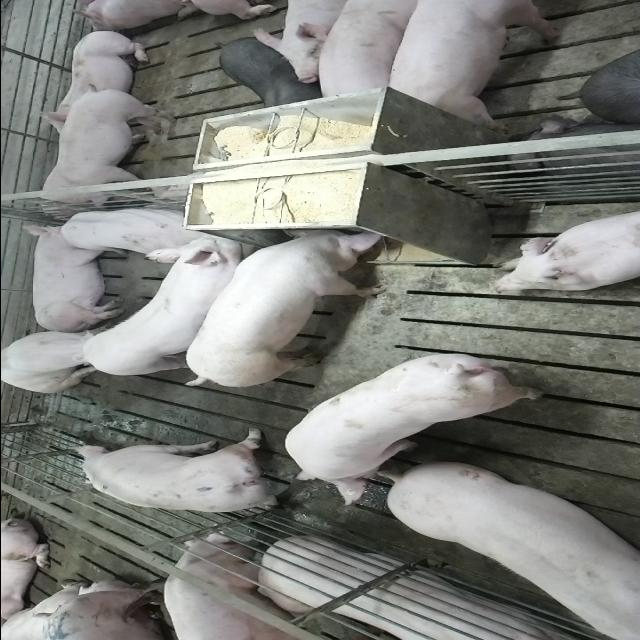Feeding: (177, 220, 396, 385)
Lateral_lying: (253, 539, 605, 640), (19, 223, 127, 333)
Sitting: (0, 326, 114, 393)
Standing: (382, 465, 639, 640), (284, 355, 546, 511), (78, 241, 258, 381), (383, 1, 561, 126), (69, 430, 291, 515), (51, 86, 182, 214), (163, 534, 320, 640), (313, 3, 427, 111)
Sternal_lying: (486, 206, 640, 292), (31, 30, 153, 130)
